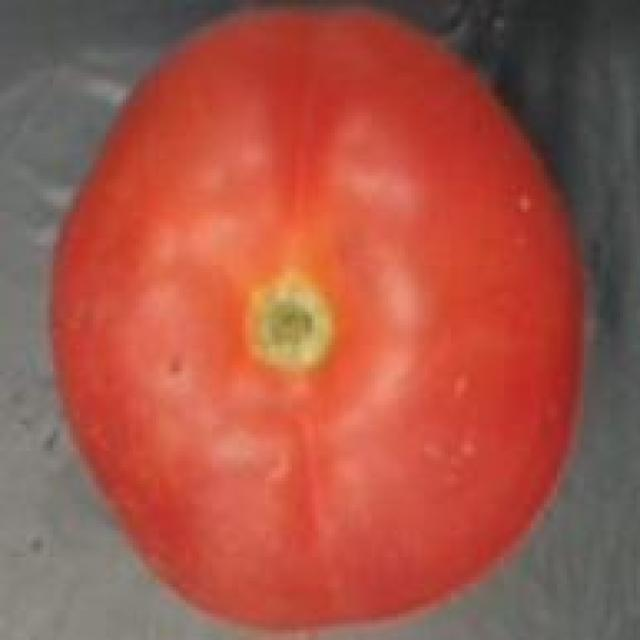overripe tomato: (39, 6, 590, 640)
